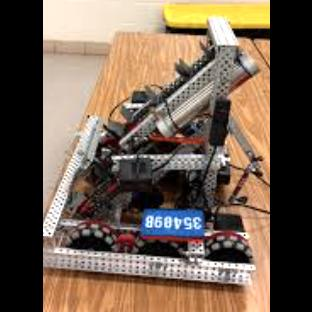Robot: (43, 15, 262, 284)
